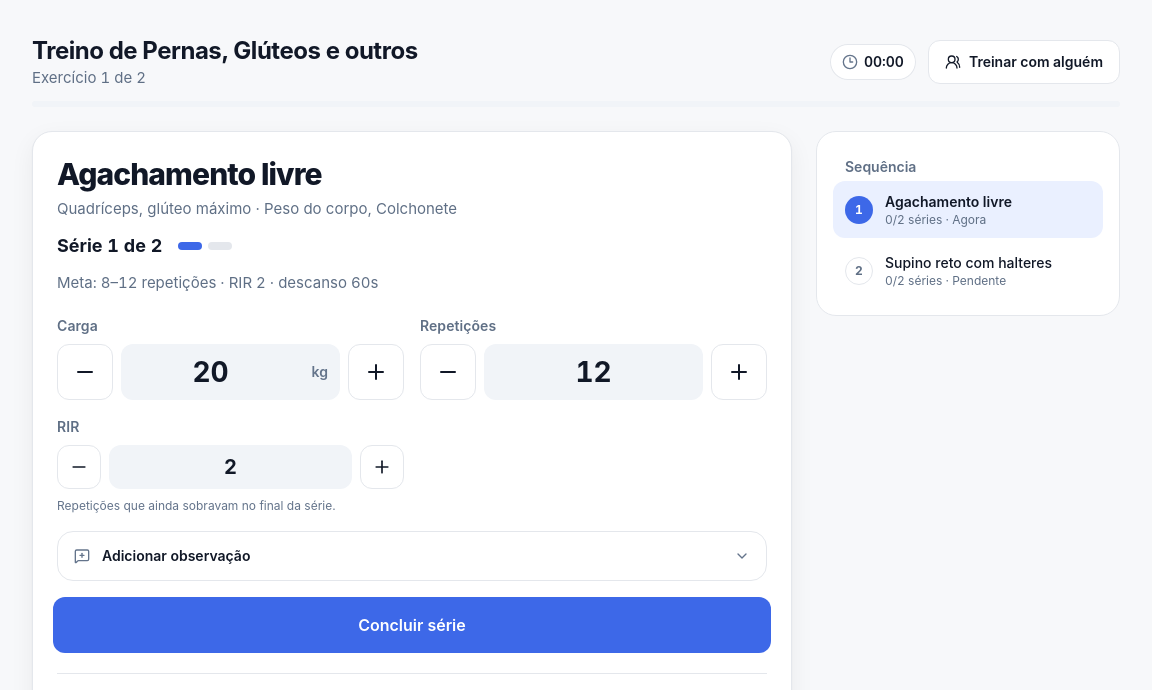
it: WorkoutPageClient › exposes the accompanied-workout flow from the active session
This screenshot has width=1152, height=690.
What coordinates should you click on to do the following:
click the button "Treinar com alguém"
I would click on:
 (1024, 62)
Its box is [928,40,1120,84].
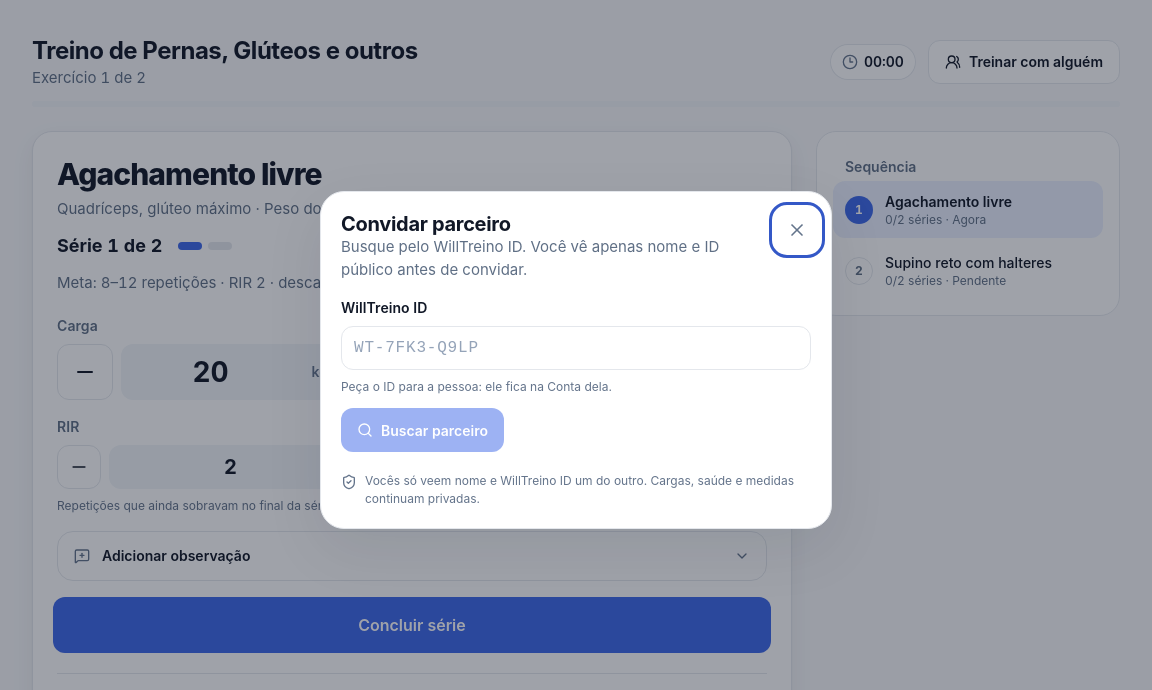
Check: the dialog "Convidar parceiro" is shown, box [320,191,832,529]
Check: the field labelled "WillTreino ID" is shown, box [341,326,811,370]
